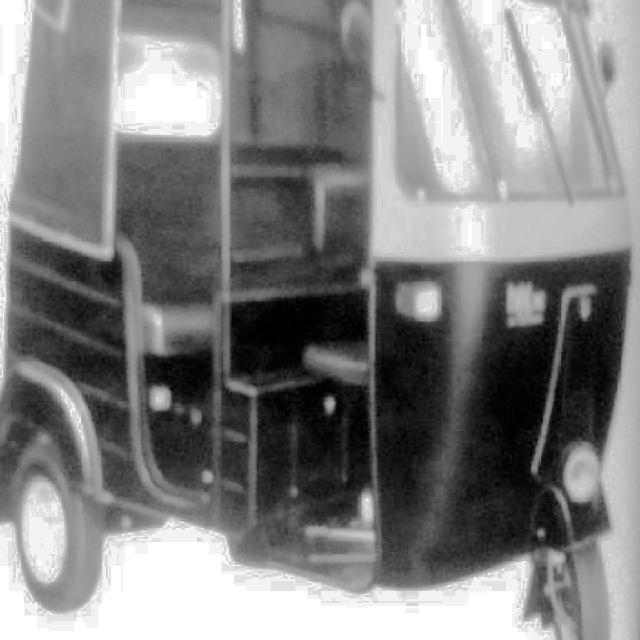Auto-Rickshaw: (3, 2, 620, 639)
